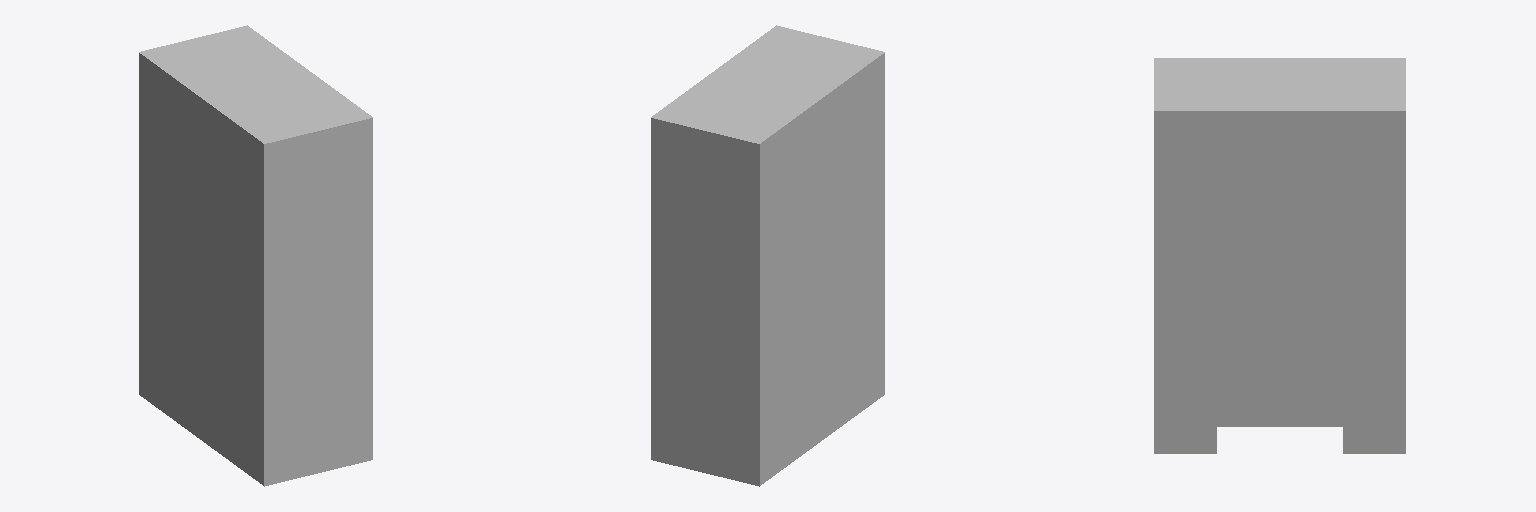
The model's file is Maquina.obj.
3 views of the same model, side by side, from view 1: azimuth 30°, elevation 25°; view 2: azimuth 150°, elevation 25°; view 3: azimuth 270°, elevation 25° (orthographic).
Parts seen in each view (by area): view 1: object 1; view 2: object 1; view 3: object 1.
Boxes of the visible parts, x1=… form: object 1: x1=139, y1=25, x2=372, y2=486; object 1: x1=651, y1=25, x2=884, y2=486; object 1: x1=1154, y1=58, x2=1405, y2=453.
Bounding box in the file's own units: 0.2 × 0.6 × 0.4.